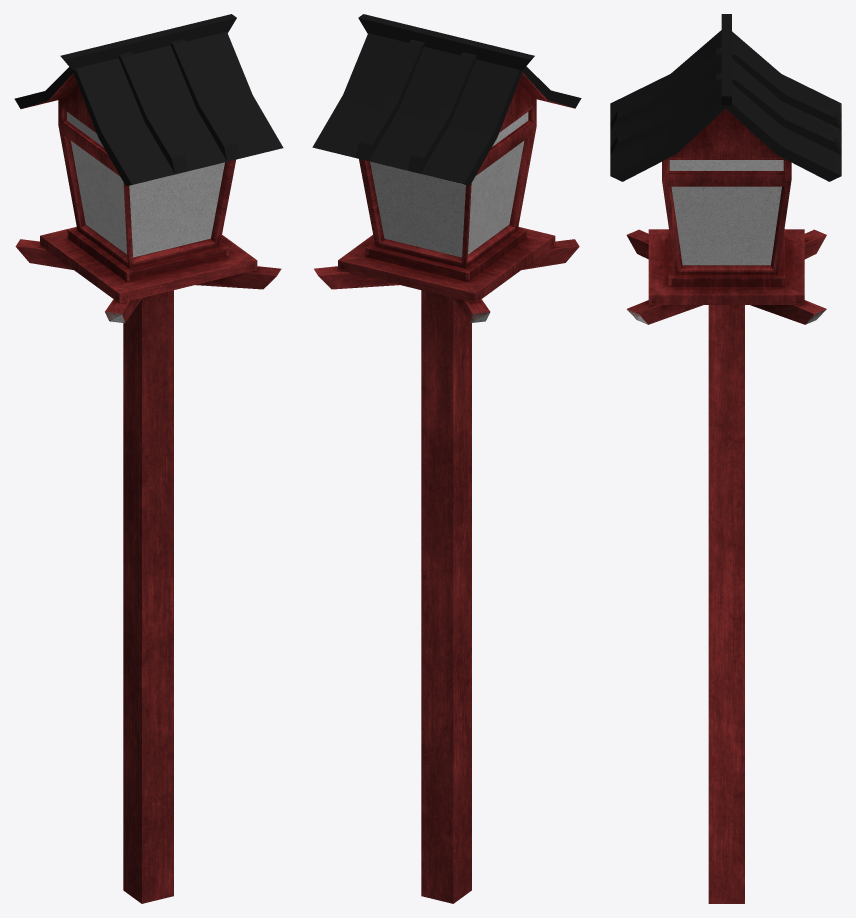
File: NNJ0310026.fbx
The picture shows the model from 3 angles, left to right: view 1: azimuth 30°, elevation 25°; view 2: azimuth 150°, elevation 25°; view 3: azimuth 270°, elevation 25°; orthographic projection.
Parts seen in each view (by area): view 1: smNNJ0310026; view 2: smNNJ0310026; view 3: smNNJ0310026.
Part boxes in pixels (x1,y1,x2,y2): smNNJ0310026: [14, 14, 283, 903]; smNNJ0310026: [312, 14, 581, 903]; smNNJ0310026: [610, 14, 841, 903].
Size of the model in its own units: 54.75 by 253 by 63.15.
Materials: 1 (1 with a texture image).
